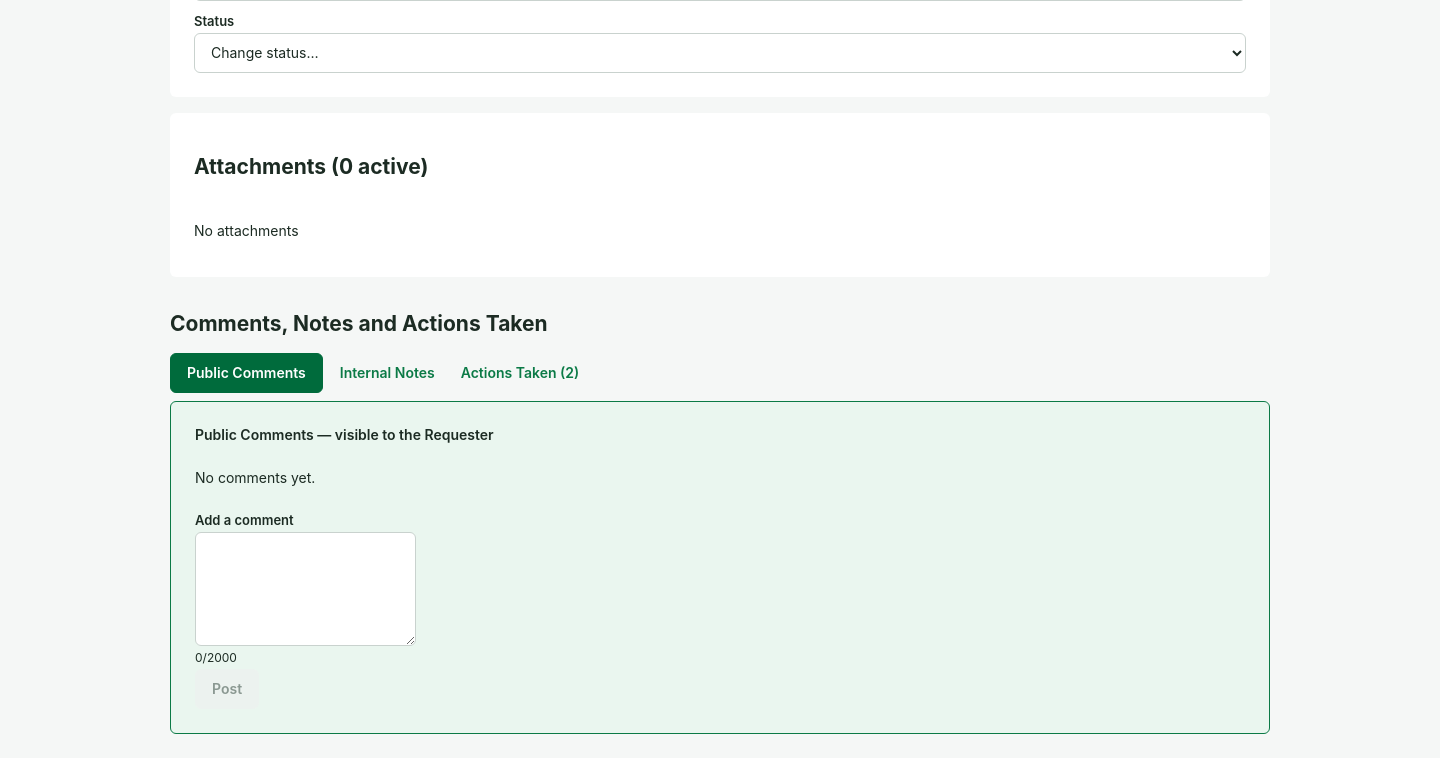
Test: Actions Taken style rules (ui-spec.md §2, §4.3, §6) › the form has labels above controls, required asterisks, adjacent validation messages, and an edit control with an accessible label
The image size is (1440, 758).
(page scrolled)
Click the tab "Actions Taken (2)".
click(520, 373)  # box x1=452 y1=353 x2=588 y2=393
(page scrolled)
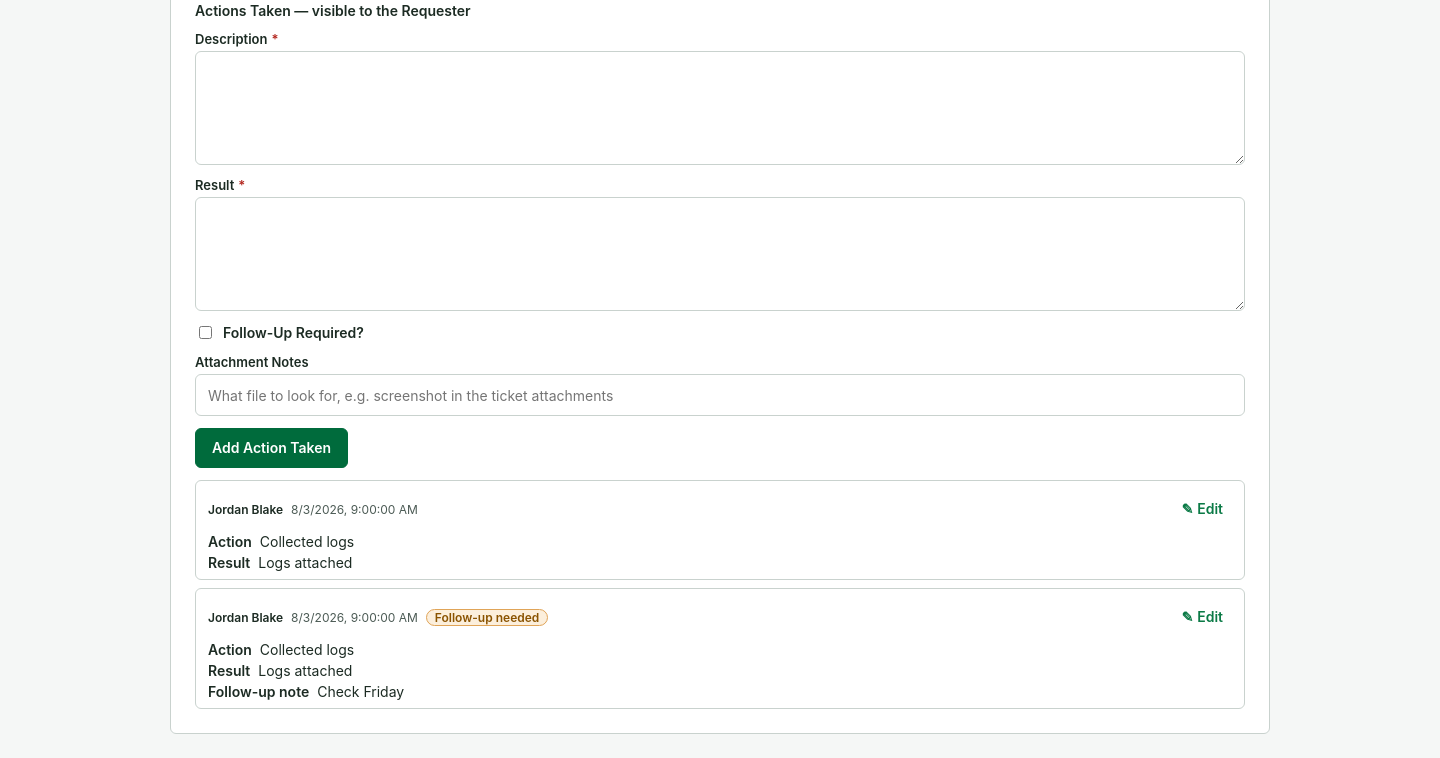
Now the label with class "field__label" shows "Description", box x1=195 y1=31 x2=267 y2=47
Now the 1st text with class "field__required-marker" is shown, box x1=271 y1=31 x2=278 y2=47
Now the label with class "field__label" shows "Result", box x1=195 y1=177 x2=234 y2=193
Click the button "Add Action Taken".
click(272, 448)  # box x1=195 y1=428 x2=348 y2=468
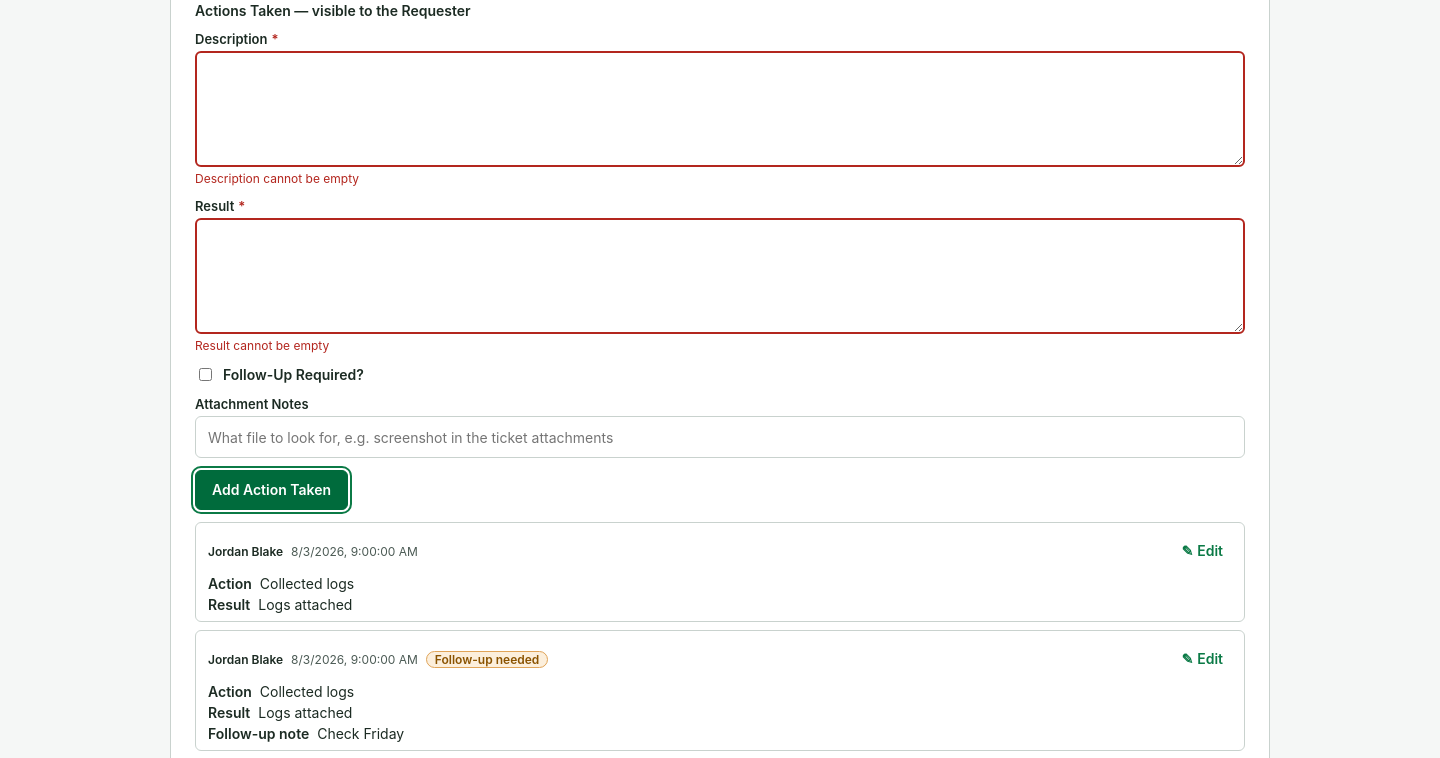
Now the number of buttons named "Edit this action" is 2, box x1=1172 y1=531 x2=1232 y2=571; x1=1172 y1=639 x2=1232 y2=679
Now the text with class "field__message--error" reads "Description cannot be empty", box x1=195 y1=171 x2=359 y2=186
